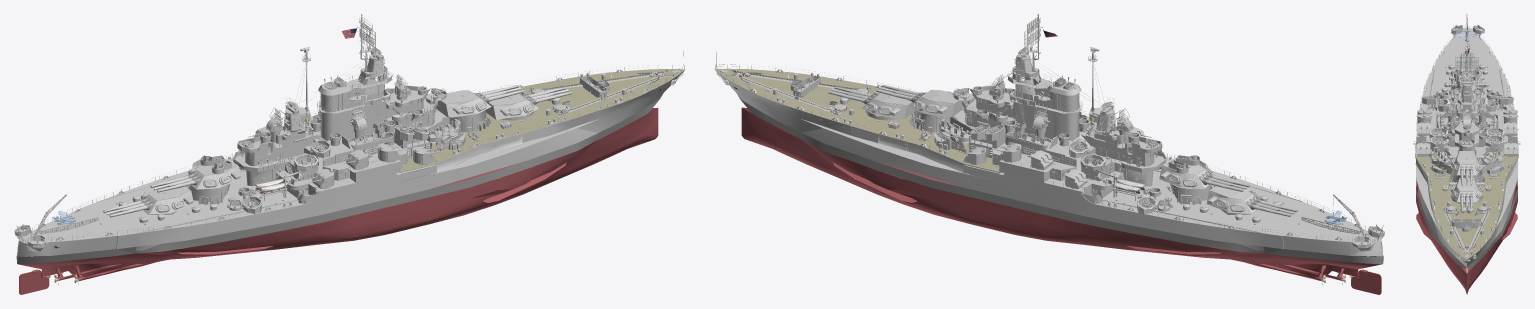
The model's file is uss_california-maximum-compressed.glb.
3 views of the same model, side by side, from view 1: azimuth 30°, elevation 25°; view 2: azimuth 150°, elevation 25°; view 3: azimuth 270°, elevation 25° (orthographic). The views are drawn at different scales.
Visible parts, largest first — view 1: Component#15_7681, Component#1_6486, Component#15_7873, Component#1_5396, Component#6_3502, Component#6_3364, Component#6_3433, Component#6_3571, Component#80_4302, Component#129_7651; view 2: Component#15_7873, Component#1_5396, Component#15_7681, Component#1_6486, Component#6_3502, Component#6_3364, Component#6_3433, Component#6_3571, Component#80_3295, Component#129_7843; view 3: Component#15_7681, Component#15_7873, Component#1_5396, Component#1_6486, Component#6_3502, Component#6_3433, Component#111_6031, Component#80_4302, Component#80_3295, Component#111_4941, Component#23_4842, Component#23_5932 (+30 smaller).
Boxes of the visible parts, x1,y1,x2,y2 form: Component#15_7681: [17, 68, 685, 294]; Component#1_6486: [234, 14, 465, 200]; Component#15_7873: [16, 65, 683, 293]; Component#1_5396: [232, 14, 446, 181]; Component#6_3502: [435, 91, 491, 117]; Component#6_3364: [144, 186, 193, 214]; Component#6_3433: [485, 93, 538, 119]; Component#6_3571: [191, 159, 241, 189]; Component#80_4302: [211, 74, 666, 202]; Component#129_7651: [482, 162, 566, 203]; Component#15_7873: [714, 67, 1382, 294]; Component#1_5396: [934, 14, 1161, 199]; Component#15_7681: [715, 64, 1384, 293]; Component#1_6486: [953, 14, 1166, 184]; Component#6_3502: [909, 89, 964, 117]; Component#6_3364: [1206, 186, 1256, 213]; Component#6_3433: [862, 93, 914, 119]; Component#6_3571: [1159, 158, 1208, 189]; Component#80_3295: [733, 74, 1188, 202]; Component#129_7843: [833, 162, 917, 203]; Component#15_7681: [1415, 25, 1466, 294]; Component#15_7873: [1467, 26, 1518, 294]; Component#1_5396: [1460, 38, 1507, 174]; Component#1_6486: [1426, 38, 1473, 174]; Component#6_3502: [1449, 151, 1484, 175]; Component#6_3433: [1449, 178, 1484, 202]; Component#111_6031: [1455, 52, 1467, 75]; Component#80_4302: [1443, 87, 1466, 251]; Component#80_3295: [1467, 87, 1490, 252]; Component#111_4941: [1467, 52, 1478, 75]; Component#23_4842: [1485, 135, 1503, 147]; Component#23_5932: [1430, 135, 1448, 147].
Size of the model in its own units: 193 by 54.44 by 36.43.
49 materials, 9 textured.
